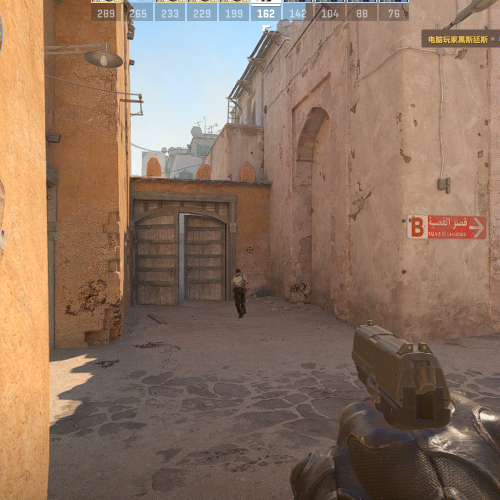t_body: (231, 268, 249, 319)
t_head: (235, 268, 241, 276)
